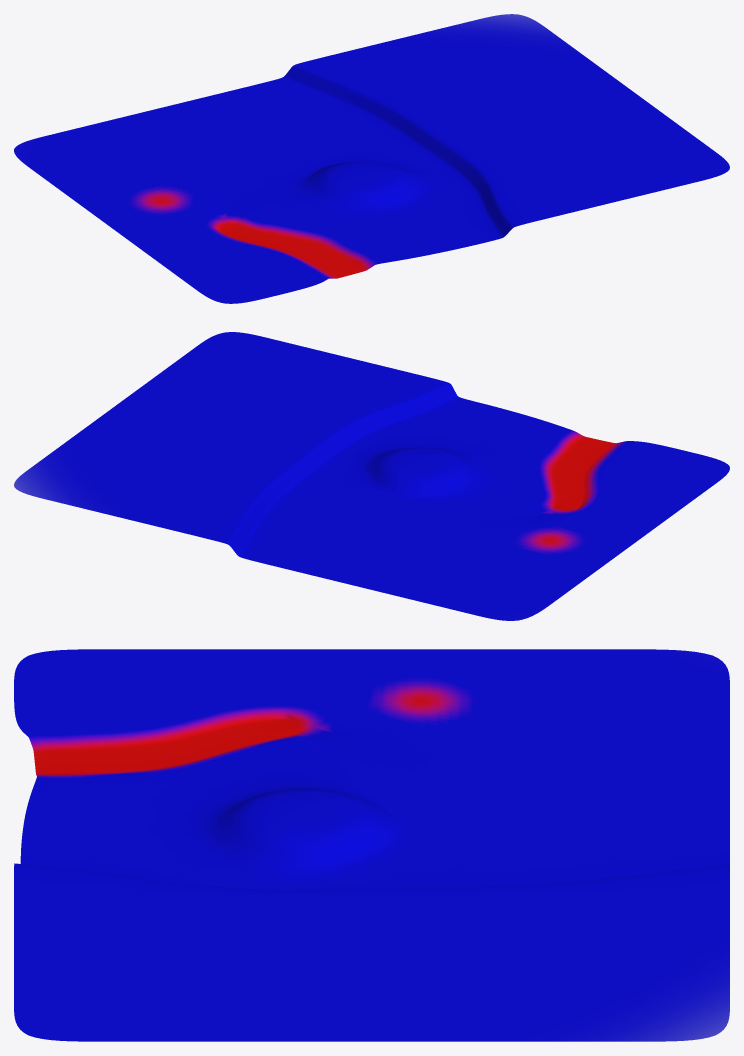
Rendered from level_1_ground_3.fbx.
3 views of the same model, one above another, from view 1: azimuth 30°, elevation 25°; view 2: azimuth 150°, elevation 25°; view 3: azimuth 270°, elevation 25° (orthographic). The views are drawn at different scales.
Visible parts, largest first — view 1: Ground03; view 2: Ground03; view 3: Ground03.
Part boxes in pixels (<box>): Ground03: <box>14,14,729,303</box>; Ground03: <box>14,332,729,620</box>; Ground03: <box>14,649,729,1041</box>.
Bounding box in the file's own units: 2567 × 3480 × 101.
